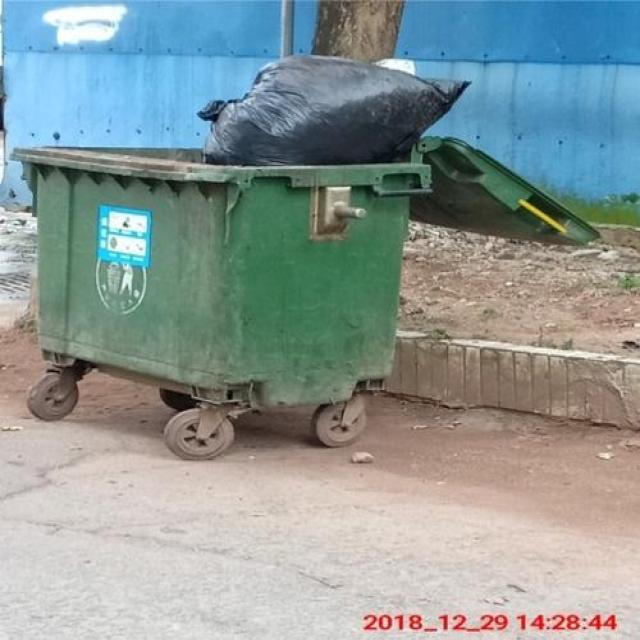overflow: (6, 55, 472, 401)
